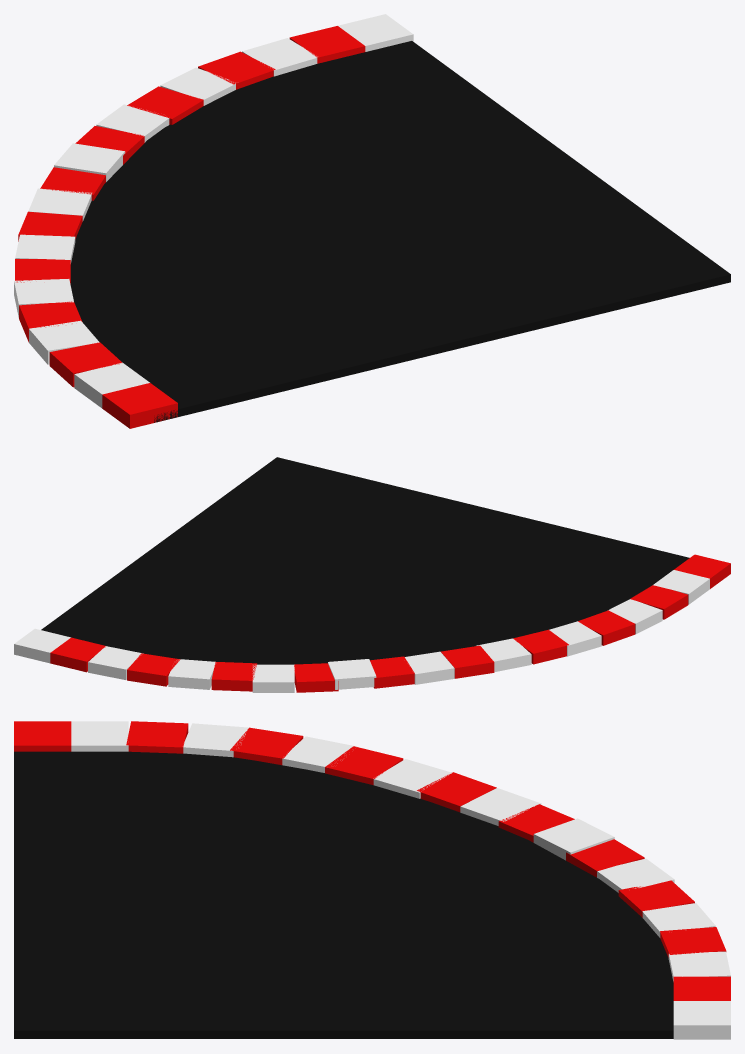
Rendered from road_curve.fbx.
3 views of the same model, one above another, from view 1: azimuth 30°, elevation 25°; view 2: azimuth 150°, elevation 25°; view 3: azimuth 270°, elevation 25° (orthographic). The views are drawn at different scales.
Visible parts, largest first — view 1: mergedBlocks; view 2: mergedBlocks; view 3: mergedBlocks.
Boxes of the visible parts, x1,y1,x2,y2 form: mergedBlocks: (14, 14, 730, 428); mergedBlocks: (14, 457, 730, 692); mergedBlocks: (14, 721, 730, 1039).
Size of the model in its own units: 31.33 by 0.8001 by 31.23.
1 material, 1 textured.
